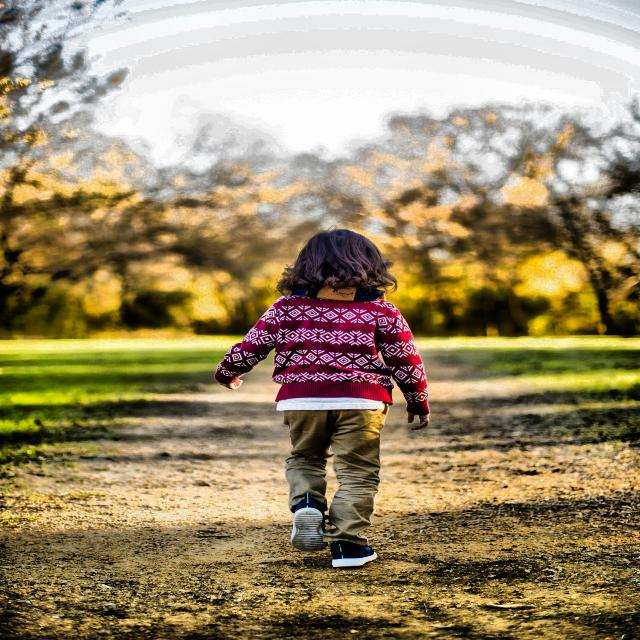Human: (246, 212, 429, 589)
